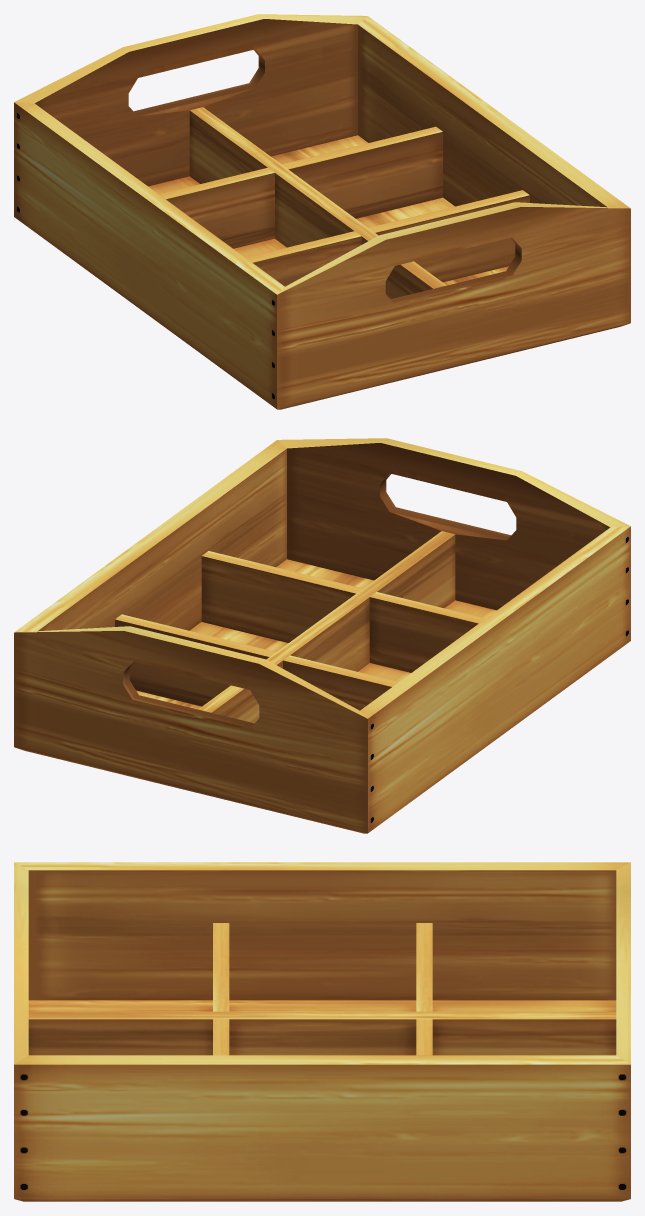
The model's file is Potion_Crate_01.fbx.
3 renders of one model, top to bottom at view 1: azimuth 30°, elevation 25°; view 2: azimuth 150°, elevation 25°; view 3: azimuth 270°, elevation 25°, orthographic. The views are drawn at different scales.
Parts seen in each view (by area): view 1: Potion_Crate_01; view 2: Potion_Crate_01; view 3: Potion_Crate_01.
Part boxes in pixels (<box>): Potion_Crate_01: <box>14,14,630,409</box>; Potion_Crate_01: <box>14,438,630,833</box>; Potion_Crate_01: <box>14,862,630,1201</box>.
Size of the model in its own units: 166 by 66.56 by 214.
Materials: 1 (1 with a texture image).
